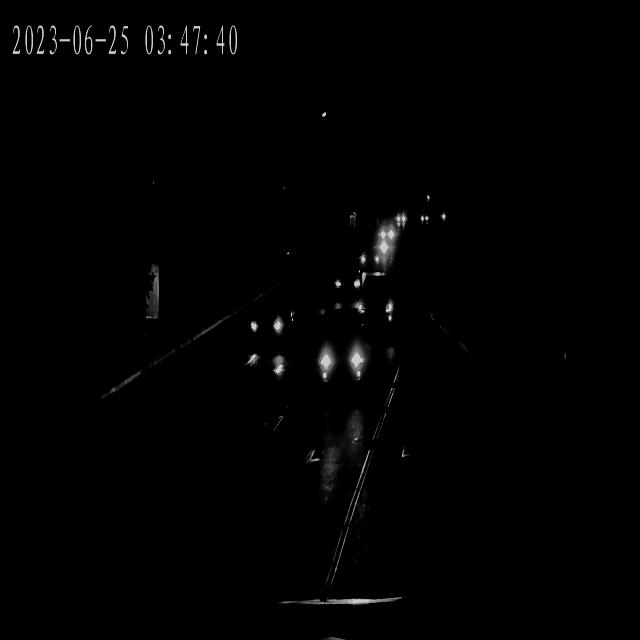Car: (309, 322, 374, 389), (246, 302, 296, 345), (332, 266, 364, 297), (355, 242, 386, 270), (376, 224, 398, 244), (394, 211, 408, 225)
